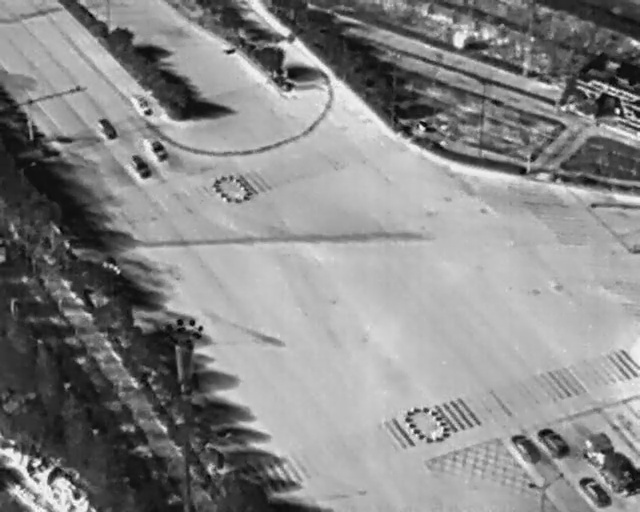Car: (535, 422, 573, 462), (508, 428, 544, 466), (577, 473, 611, 509), (126, 150, 153, 180), (147, 137, 170, 163), (97, 115, 118, 142)
